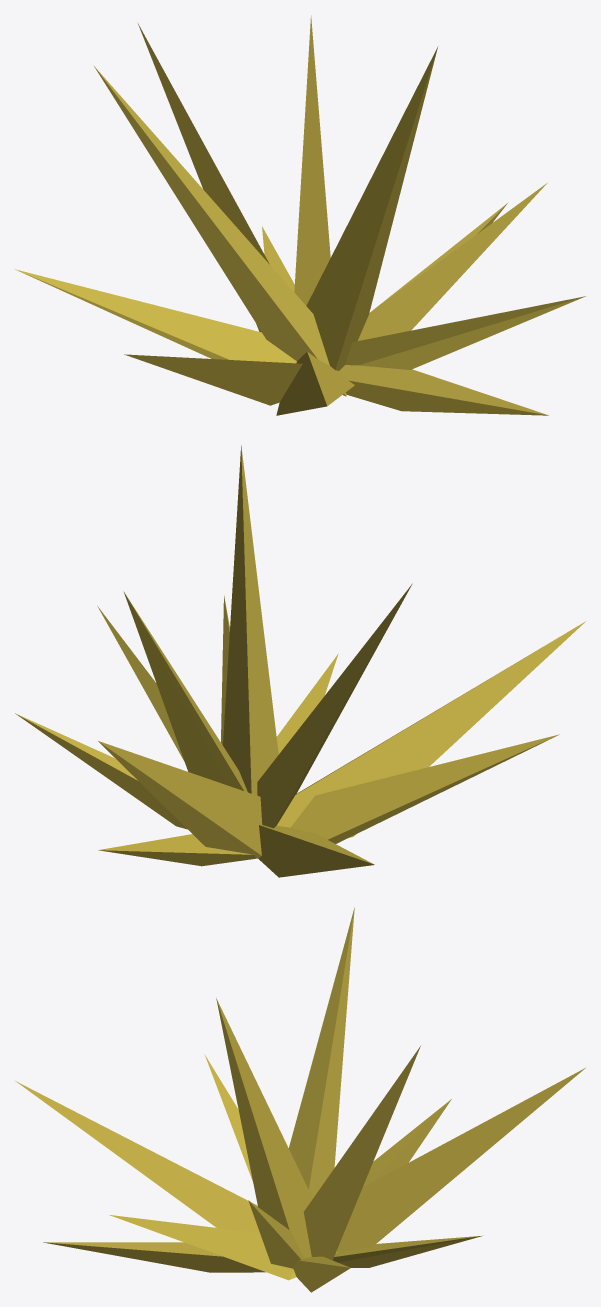
File: west_tree05.FBX
3 views of the same model, one above another, from view 1: azimuth 30°, elevation 25°; view 2: azimuth 150°, elevation 25°; view 3: azimuth 270°, elevation 25° (orthographic). The views are drawn at different scales.
Parts seen in each view (by area): view 1: west_tree05; view 2: west_tree05; view 3: west_tree05.
Part boxes in pixels (bbox=[...]): west_tree05: bbox=[15, 15, 586, 415]; west_tree05: bbox=[15, 445, 585, 877]; west_tree05: bbox=[15, 907, 585, 1292].
Bounding box in the file's own units: 705 × 503 × 895.
